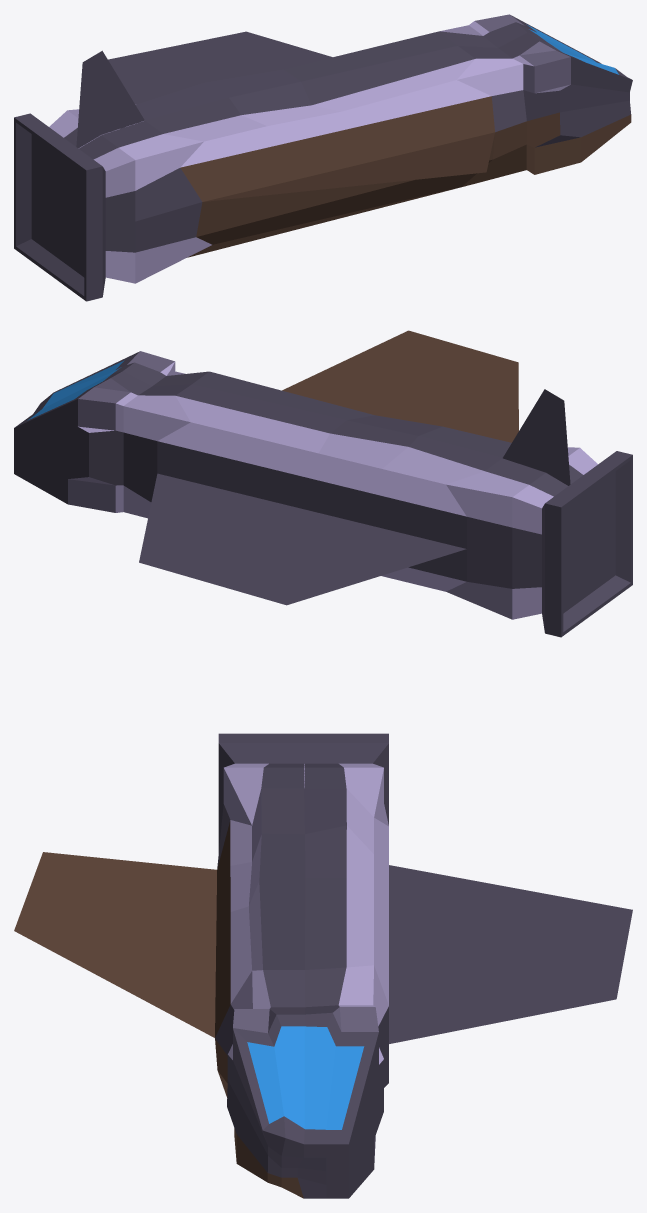
The model's file is ship_broken.fbx.
3 renders of one model, top to bottom at view 1: azimuth 30°, elevation 25°; view 2: azimuth 150°, elevation 25°; view 3: azimuth 270°, elevation 25°, orthographic. The views are drawn at different scales.
Visible parts, largest first — view 1: Cube; view 2: Cube; view 3: Cube.
Part boxes in pixels (box(x1,y1,x2,y2)): Cube: box(14, 14, 632, 301); Cube: box(14, 330, 632, 637); Cube: box(14, 733, 632, 1198).
Size of the model in its own units: 908 by 322 by 727.
